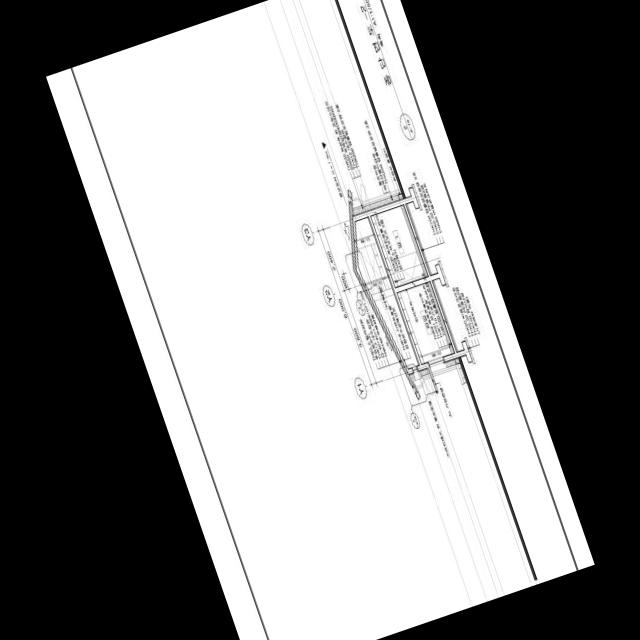background: (46, 0, 594, 640)
space_bedroom: (370, 204, 428, 286), (397, 280, 454, 363)
space_other: (355, 216, 419, 367)
